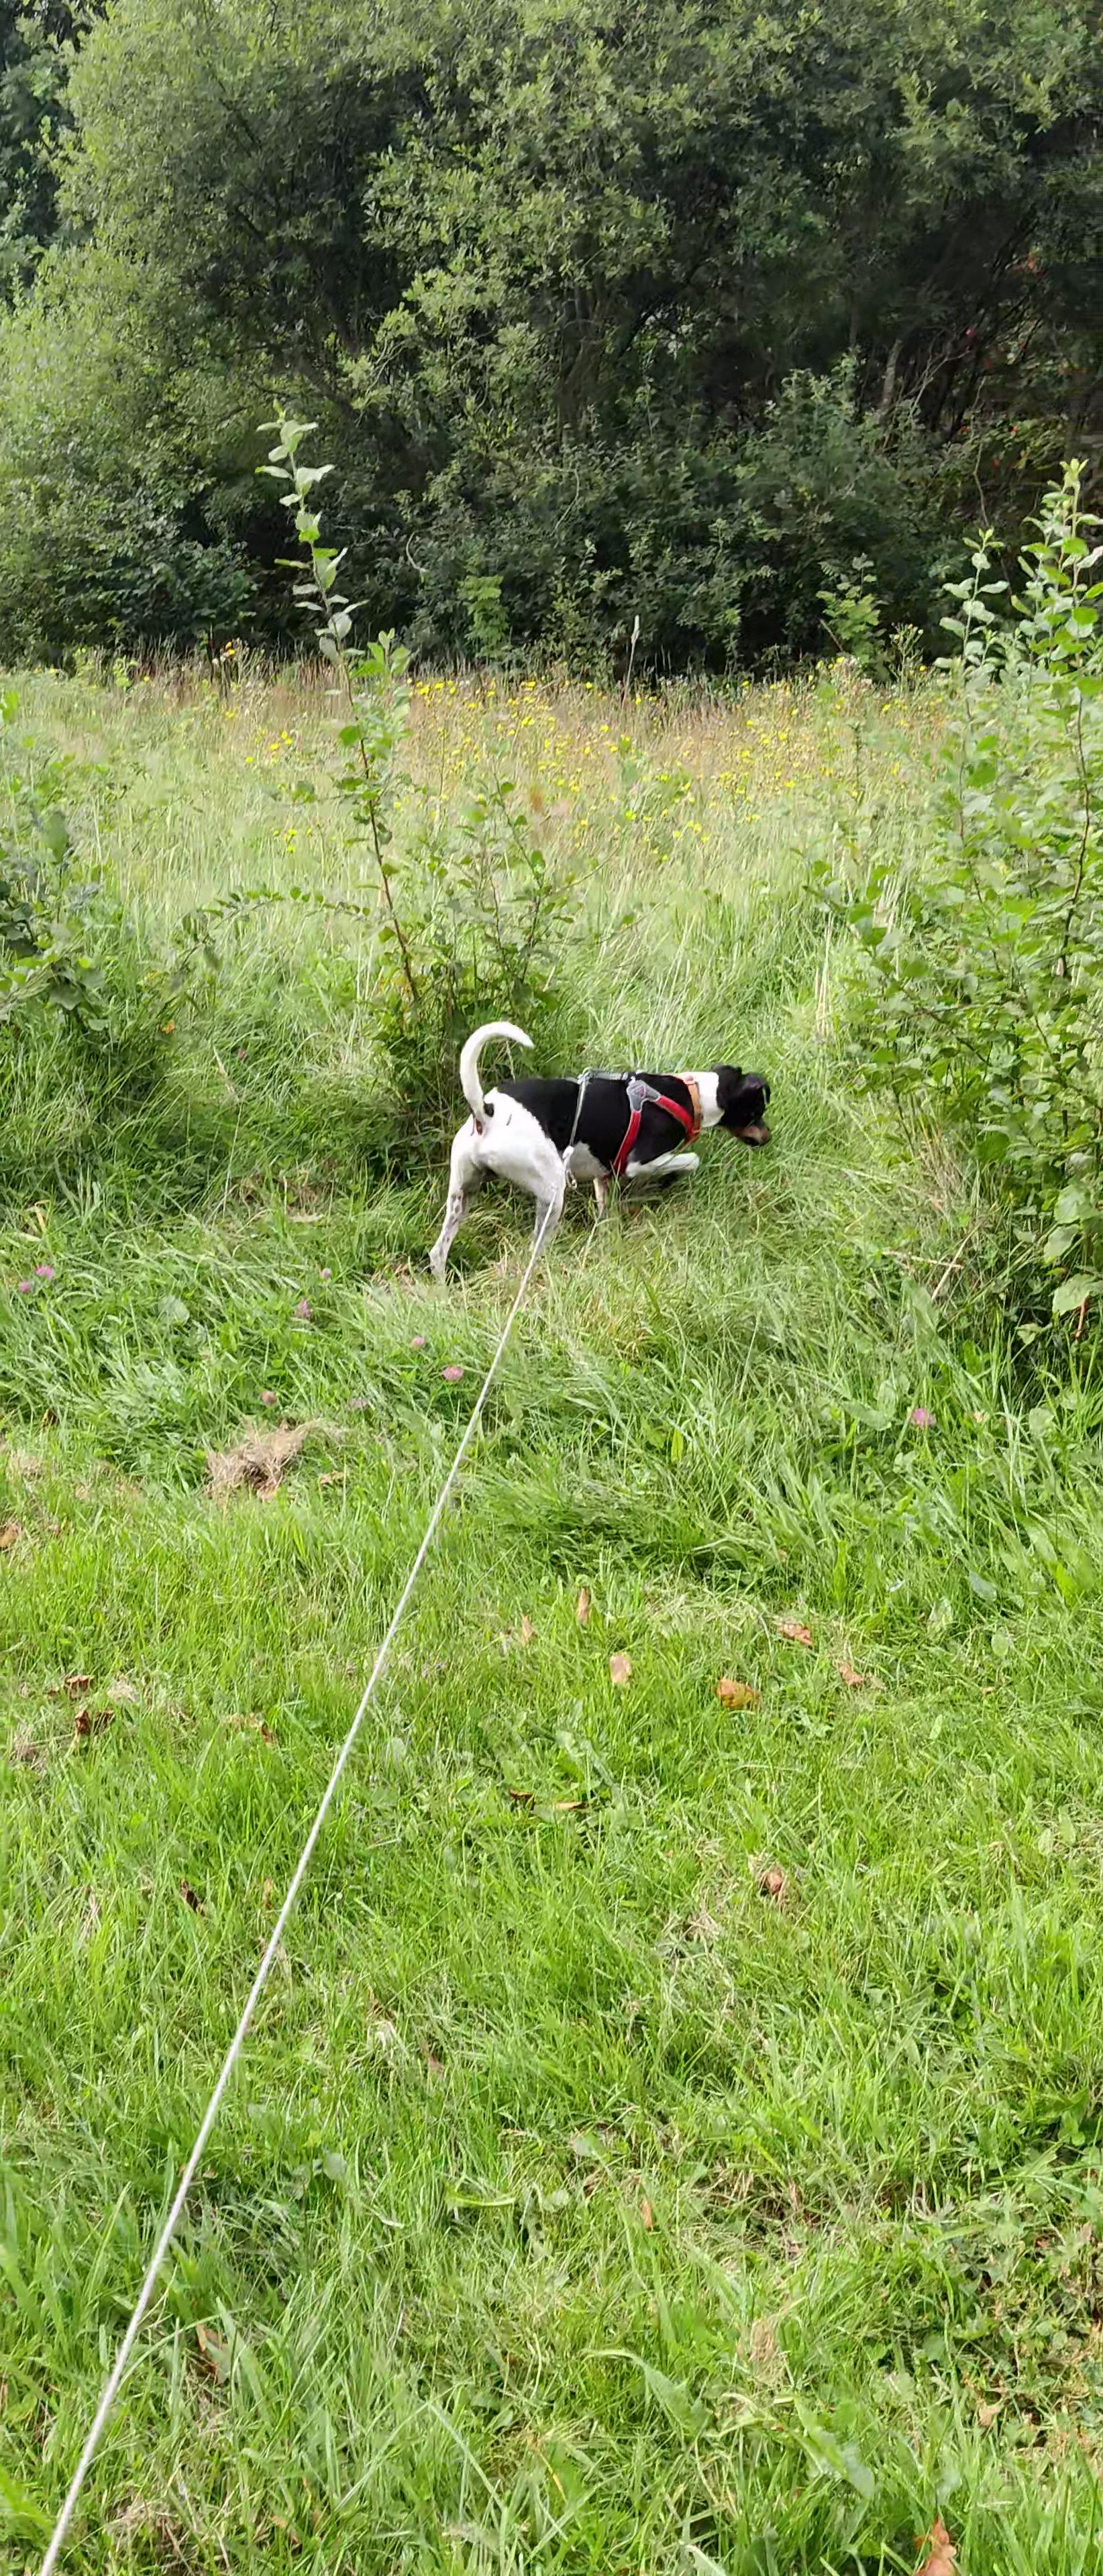Dog: (408, 1002, 786, 1283)
